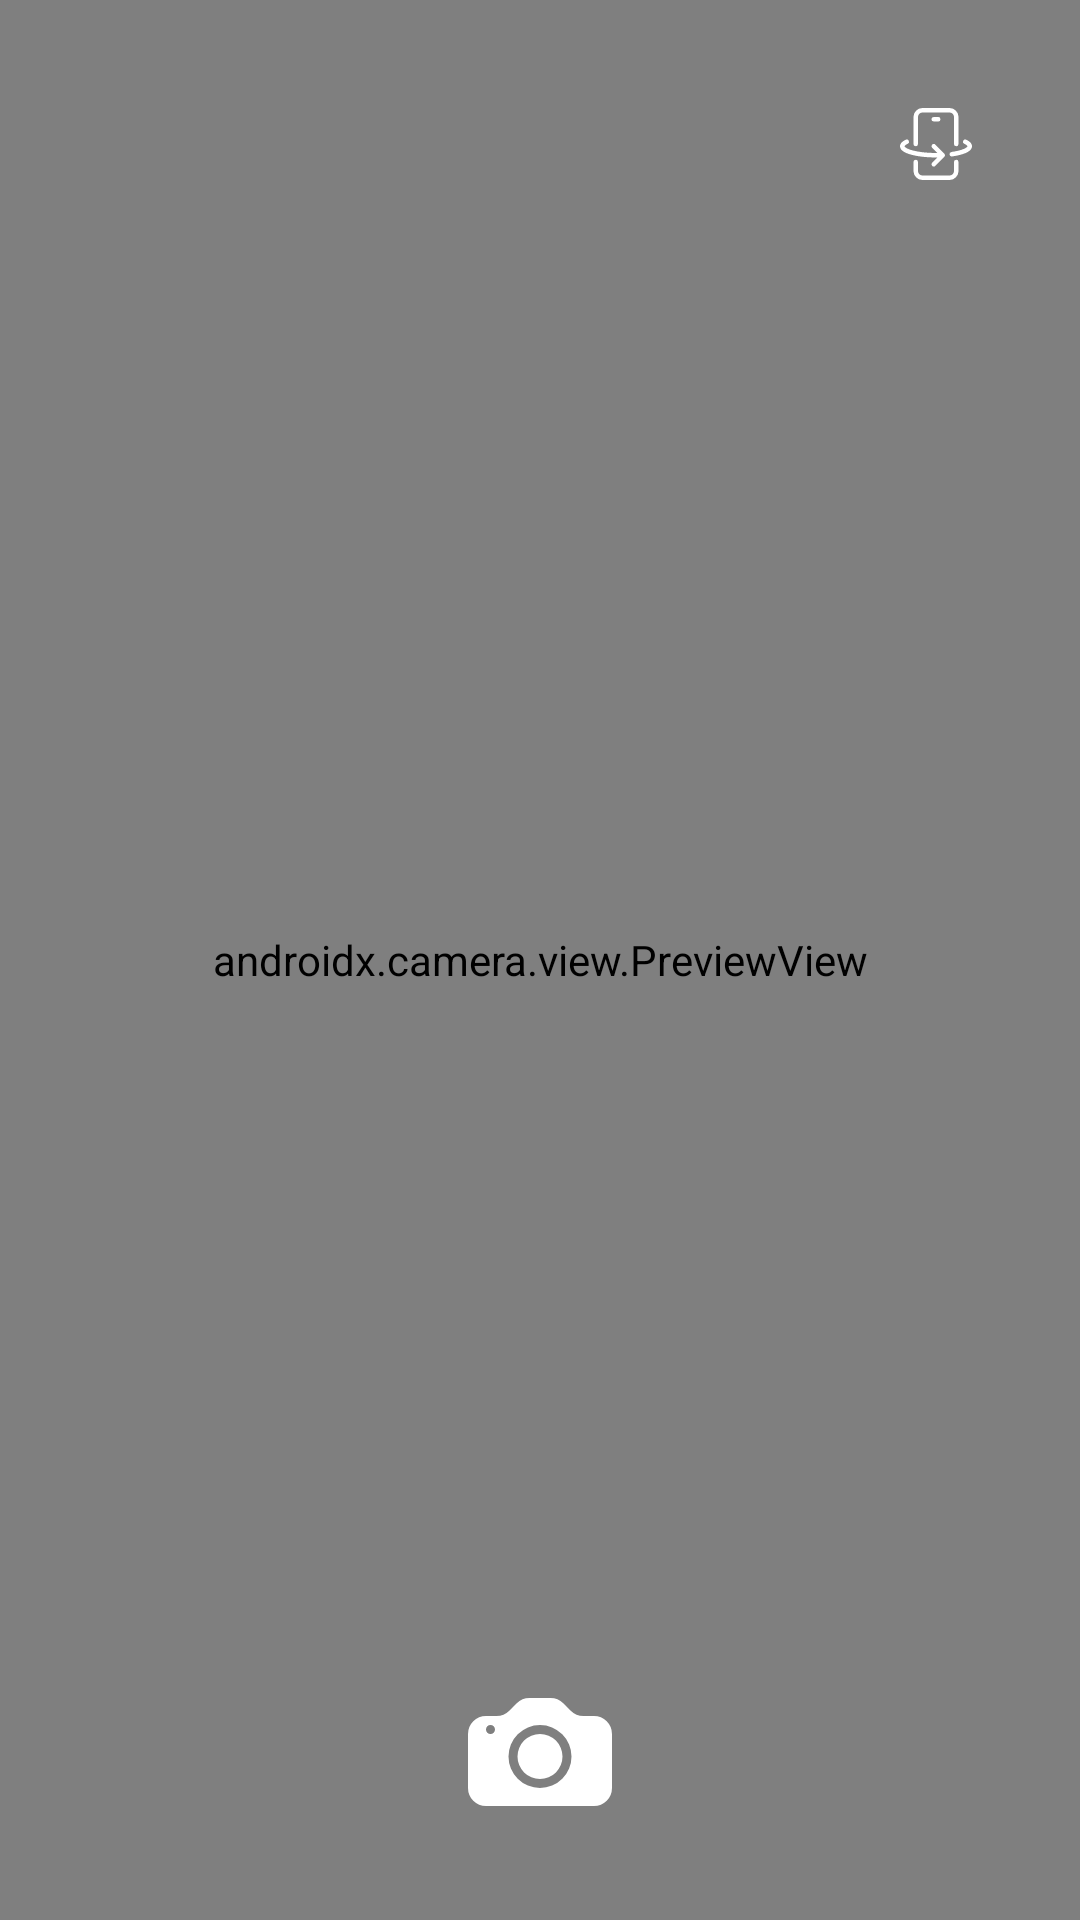

Named icons in this screenshot (1080px x 1920px) and their centers, [x,y]:
Camera Shutter: [540,1752]
Switch Camera: [936,144]
